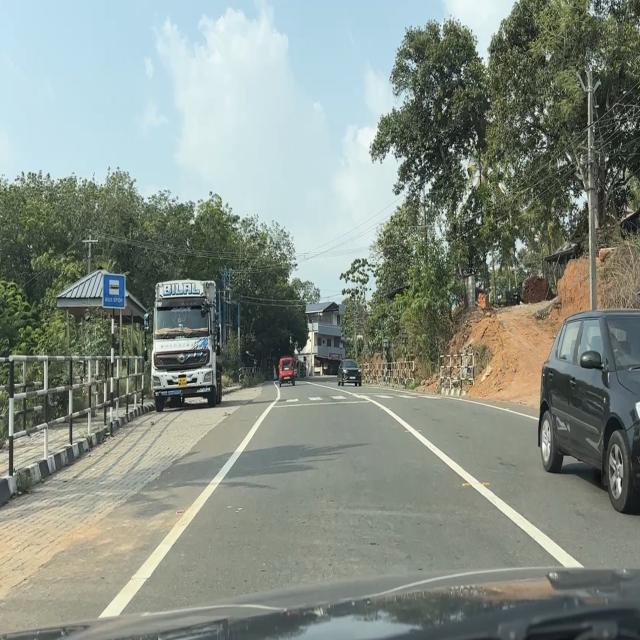INFORMATION: (102, 272, 126, 310)
